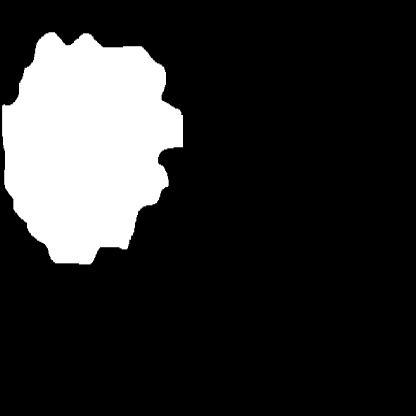malignant: (2, 21, 195, 276)
